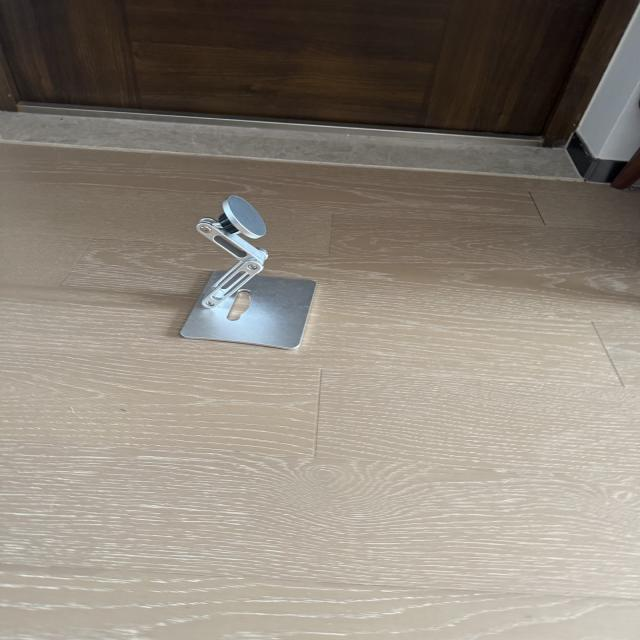phone holder: (172, 193, 322, 355)
